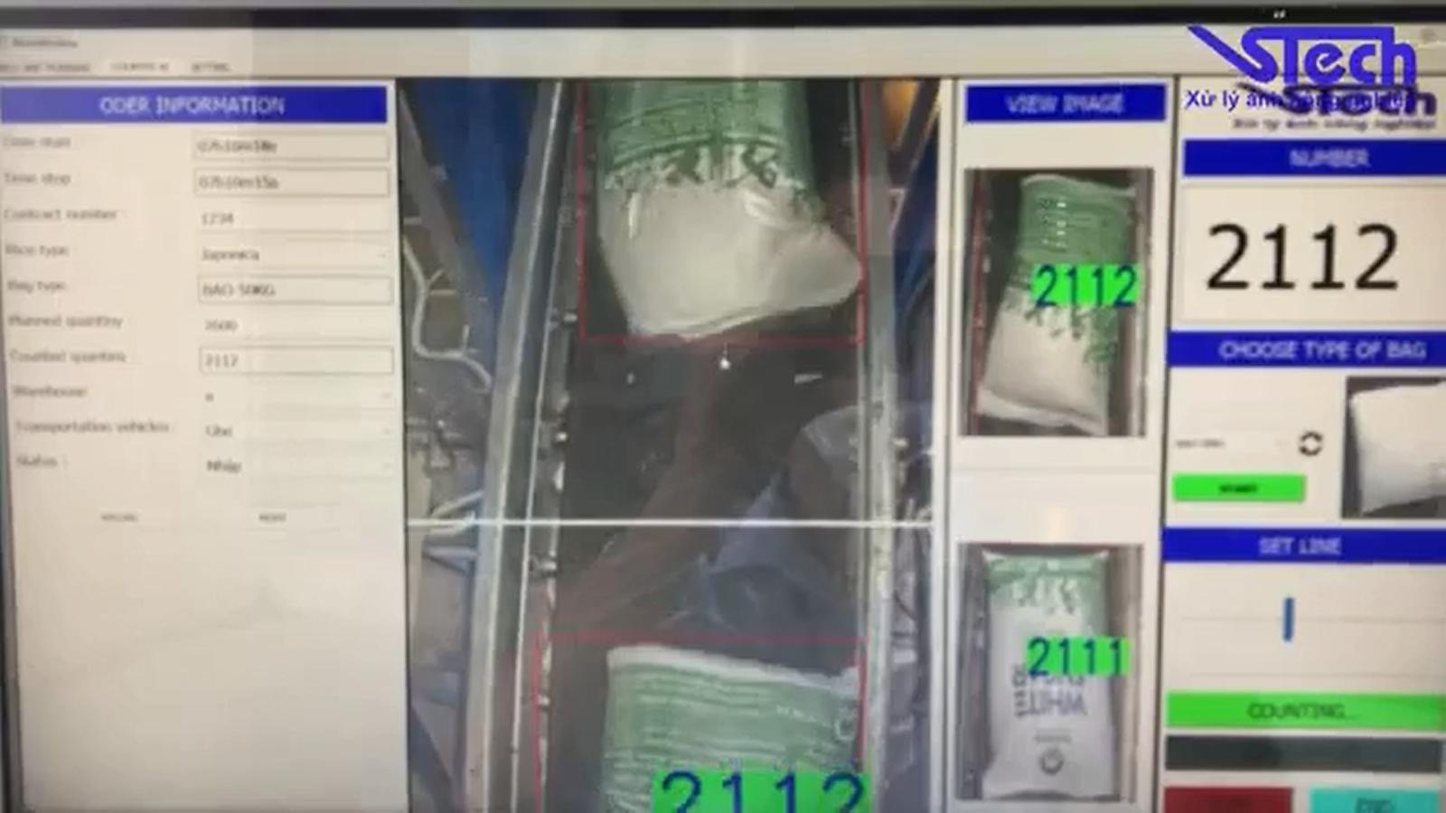rice-bag: (588, 80, 859, 340), (972, 172, 1145, 435), (981, 555, 1118, 798)
